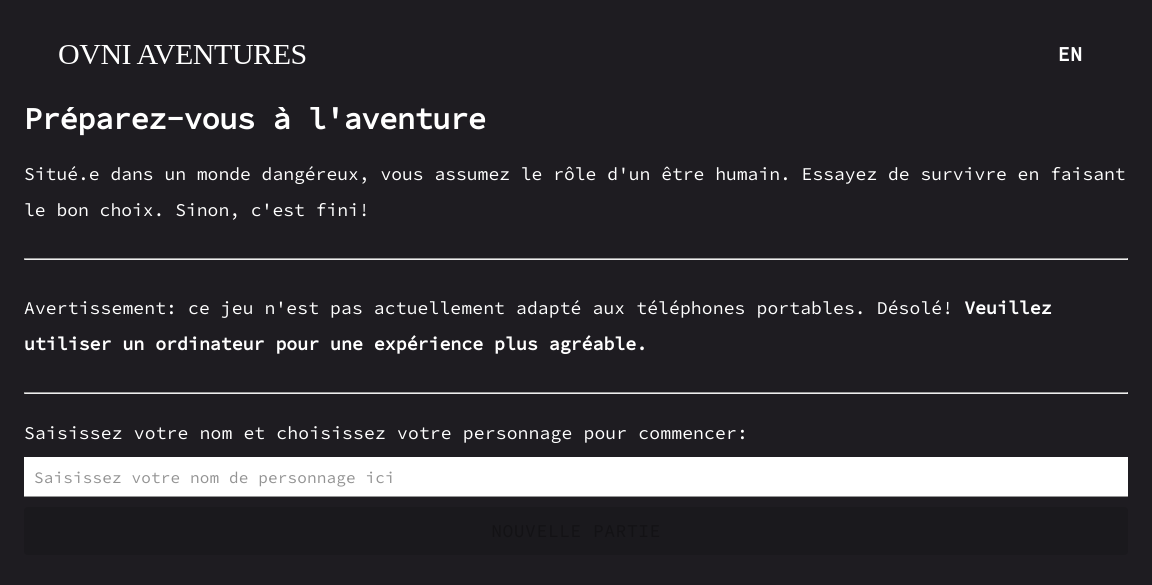
landing page › ensures language changes from FR to EN after clicking language toggle
The image size is (1152, 585).
Expected: the header is shown, [0,0,1151,70]
Step 1. Click the button "EN" → (1070, 54), box [1038,30,1102,77]
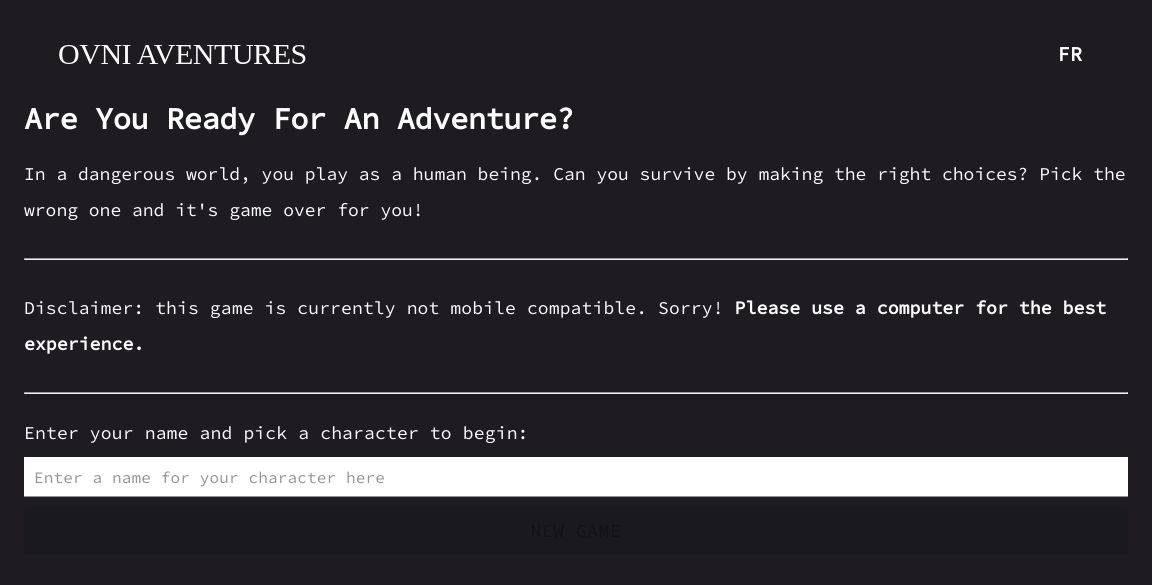
Expected: the text "FR" is shown, [1057,41,1083,66]
